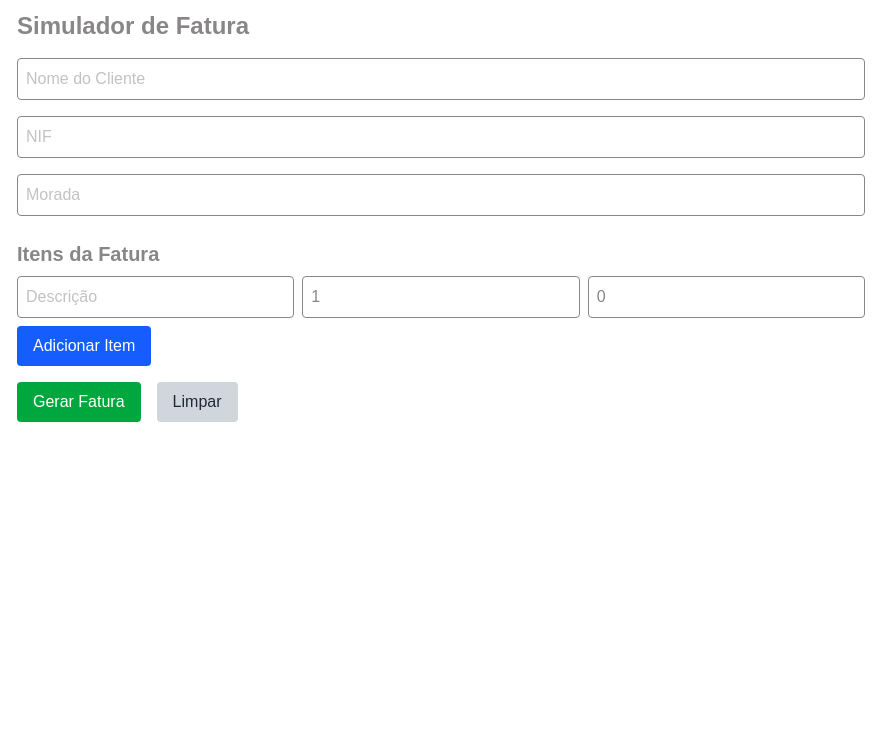
Scenario: can clear the form
The width and height of the screenshot is (883, 750).
Type "Pedro" into the field with placeholder "Nome do Cliente" at (441, 79), box [17,58,865,100]
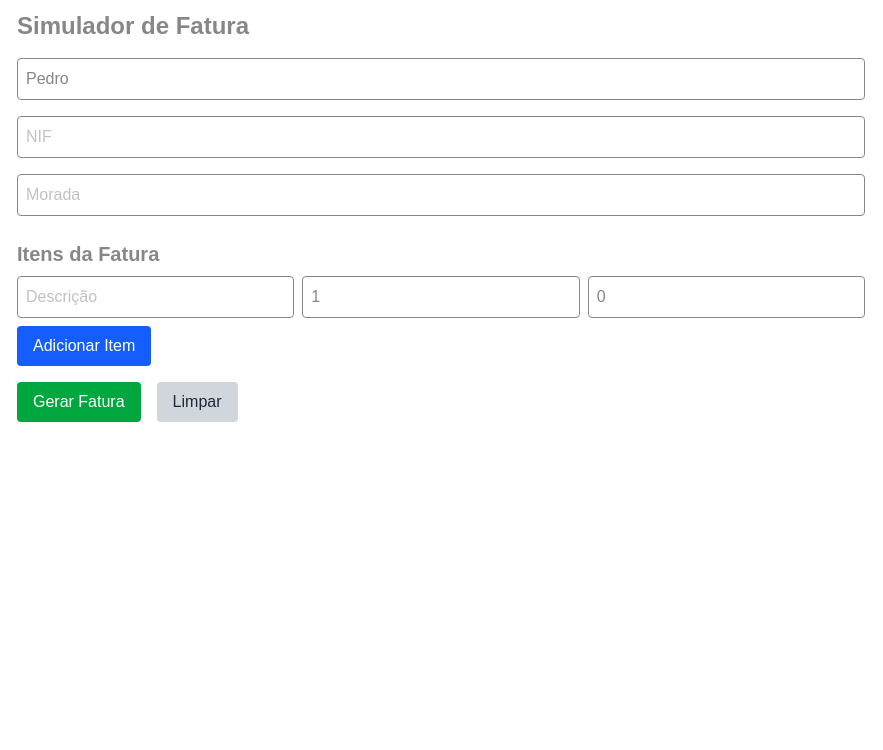
Click the button "Gerar Fatura" at (79, 402), box [17,382,141,422]
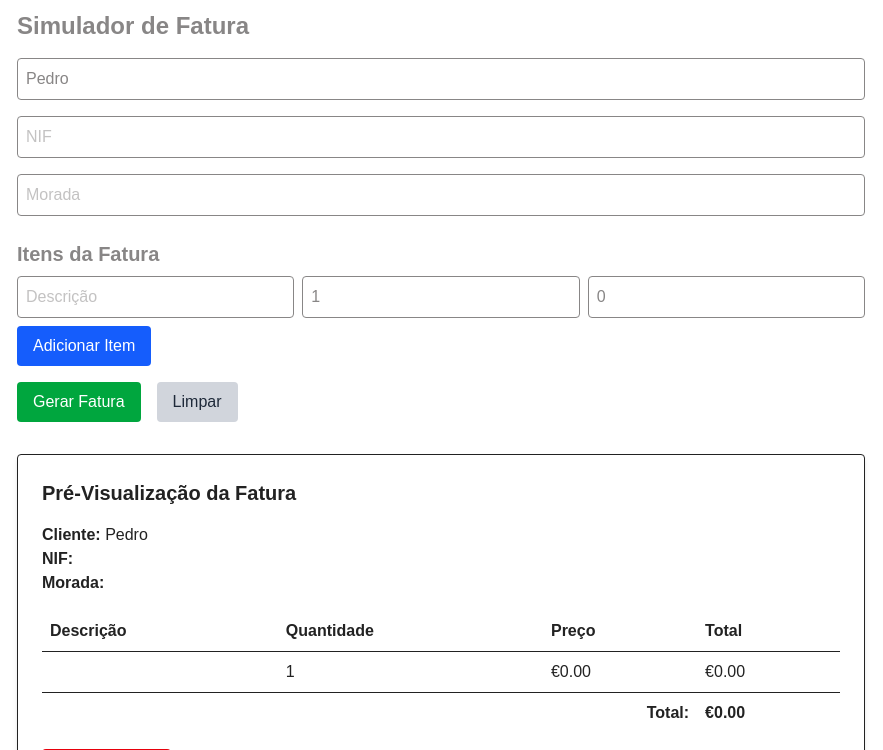
Result: the heading "Pré-Visualização da Fatura" is shown at [42,482,296,504]
Click the button "Limpar" at (197, 402), box [157,382,238,422]
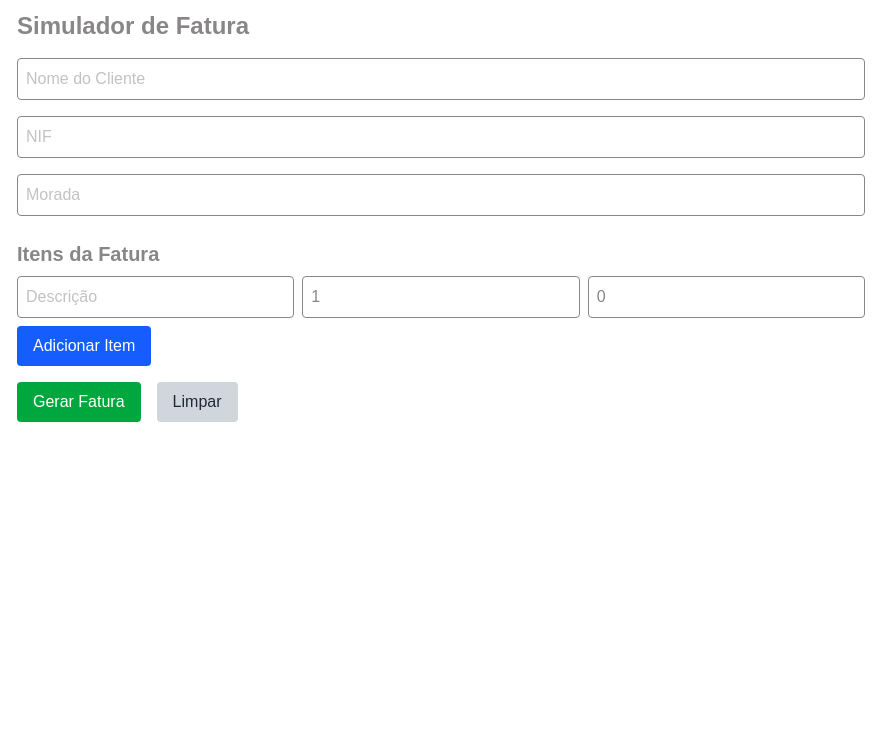
Result: the heading "Pré-Visualização da Fatura" is gone
Result: the field with placeholder "Nome do Cliente" is empty at [17,58,865,100]
